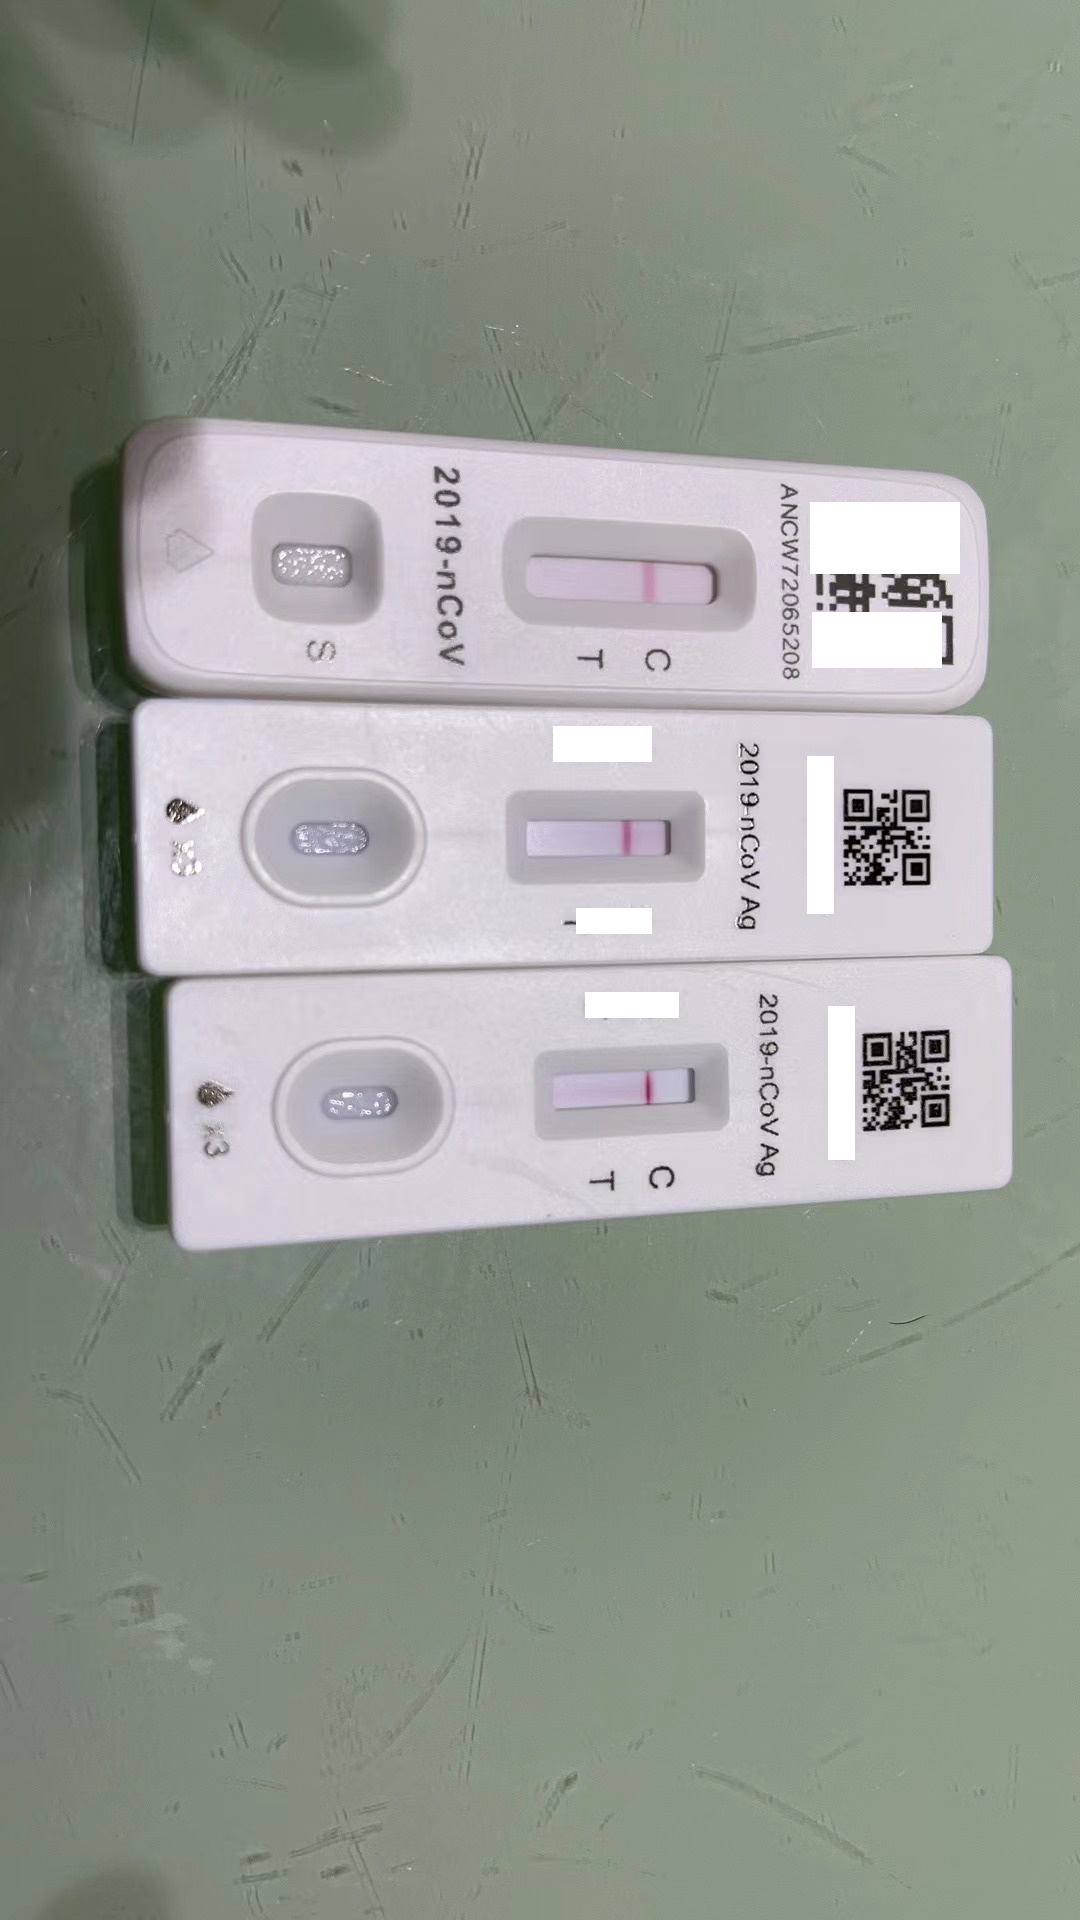negative: (506, 521, 752, 621), (506, 793, 717, 881), (539, 1046, 733, 1134)
